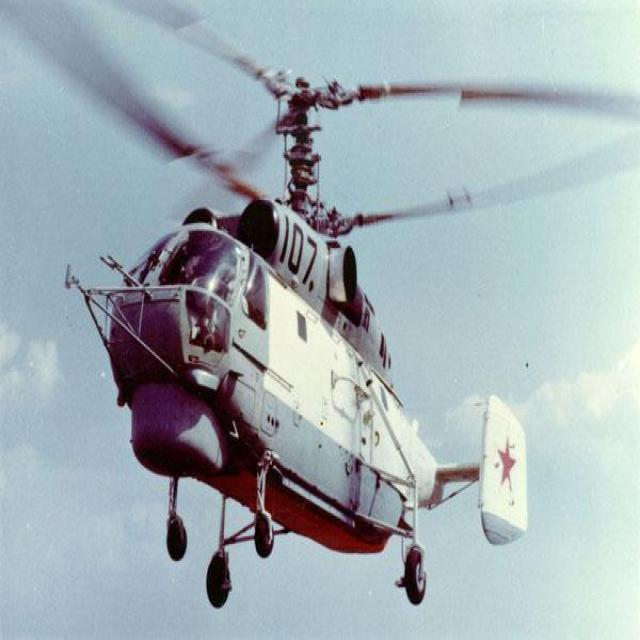MIL_HELO: (19, 1, 610, 616)
